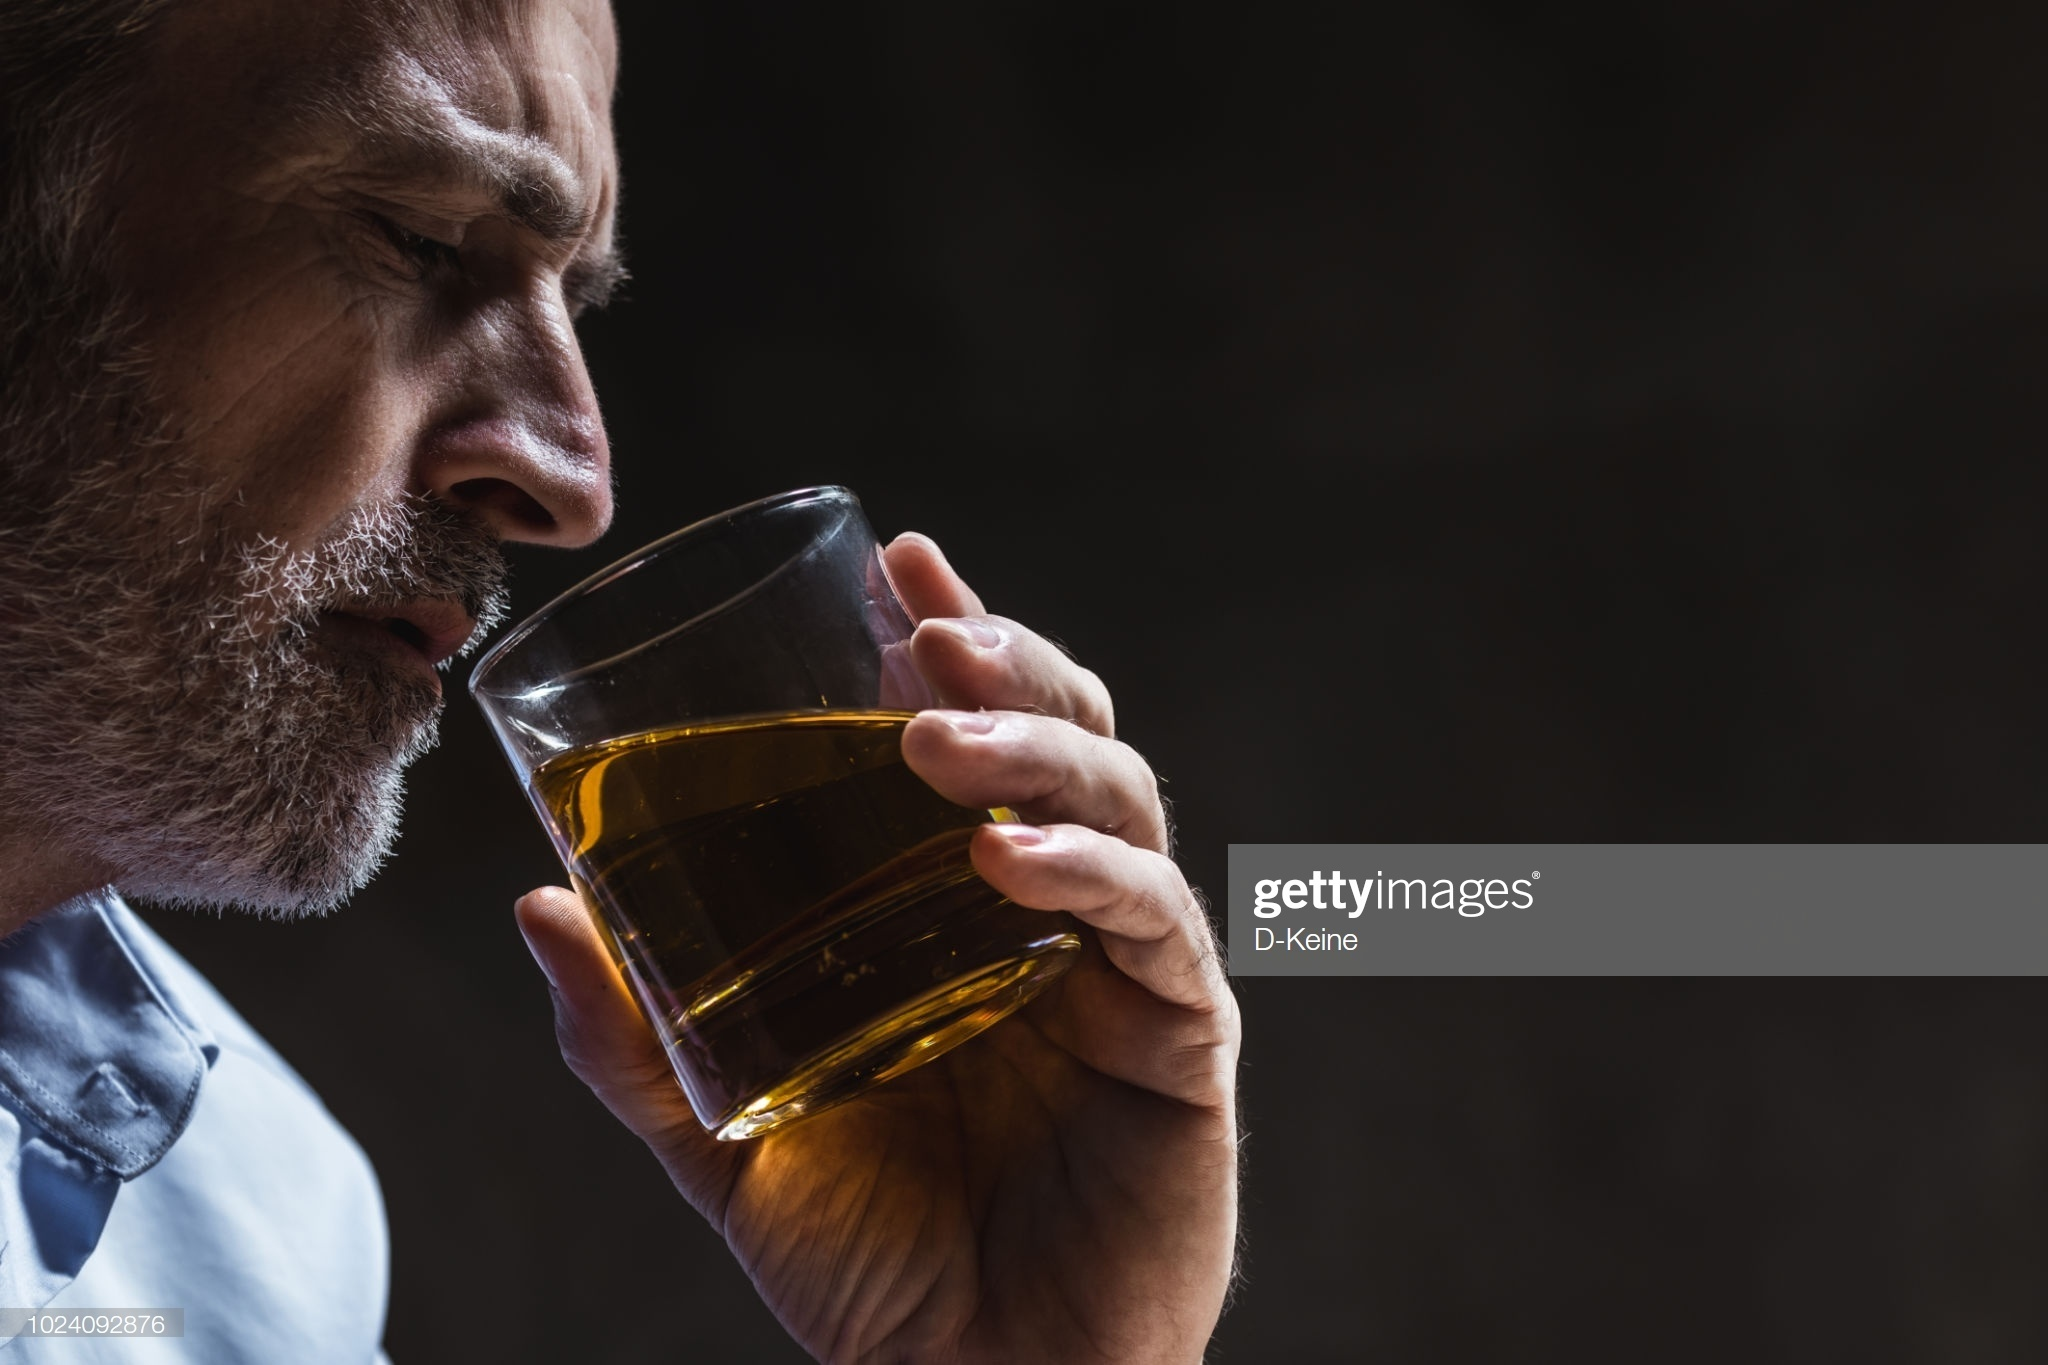whiskey: (467, 500, 1067, 1130)
